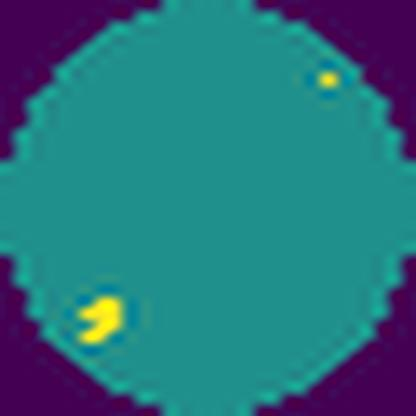Loc: (78, 291, 126, 350)
